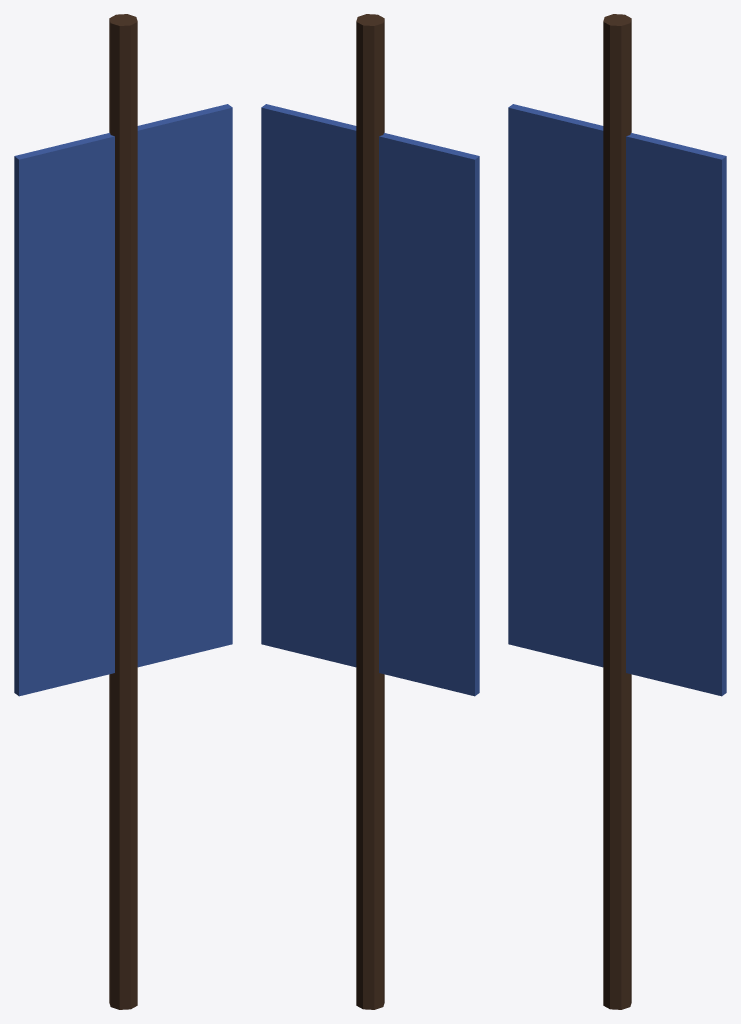
The model's file is prop_banner_2.glb.
3 renders of one model, left to right at view 1: azimuth 30°, elevation 25°; view 2: azimuth 150°, elevation 25°; view 3: azimuth 330°, elevation 25°, orthographic.
Visible parts, largest first — view 1: PROP_Banner_2; view 2: PROP_Banner_2; view 3: PROP_Banner_2.
Part boxes in pixels (left/top/right/bottom): PROP_Banner_2: left=14, top=14, right=232, bottom=1009; PROP_Banner_2: left=261, top=14, right=479, bottom=1009; PROP_Banner_2: left=508, top=14, right=726, bottom=1009.
Size of the model in its own units: 0.5 by 2.2 by 0.06.
